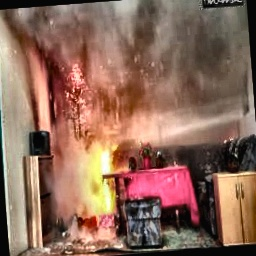fire: (81, 141, 124, 207)
smoke: (50, 134, 79, 220)
